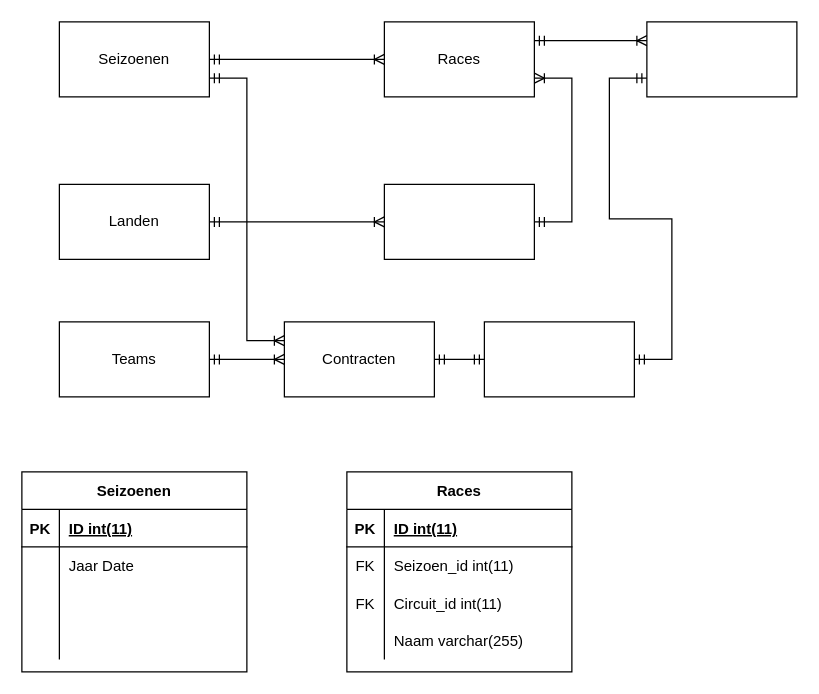
Some shapes in this 819 by 694 pixel diagram are drawn without their labels. Each missing label, with the box of its shape:
Bestuurders: (483, 321, 634, 397)
Circuits: (383, 183, 534, 259)
Resultaten: (646, 21, 797, 97)
